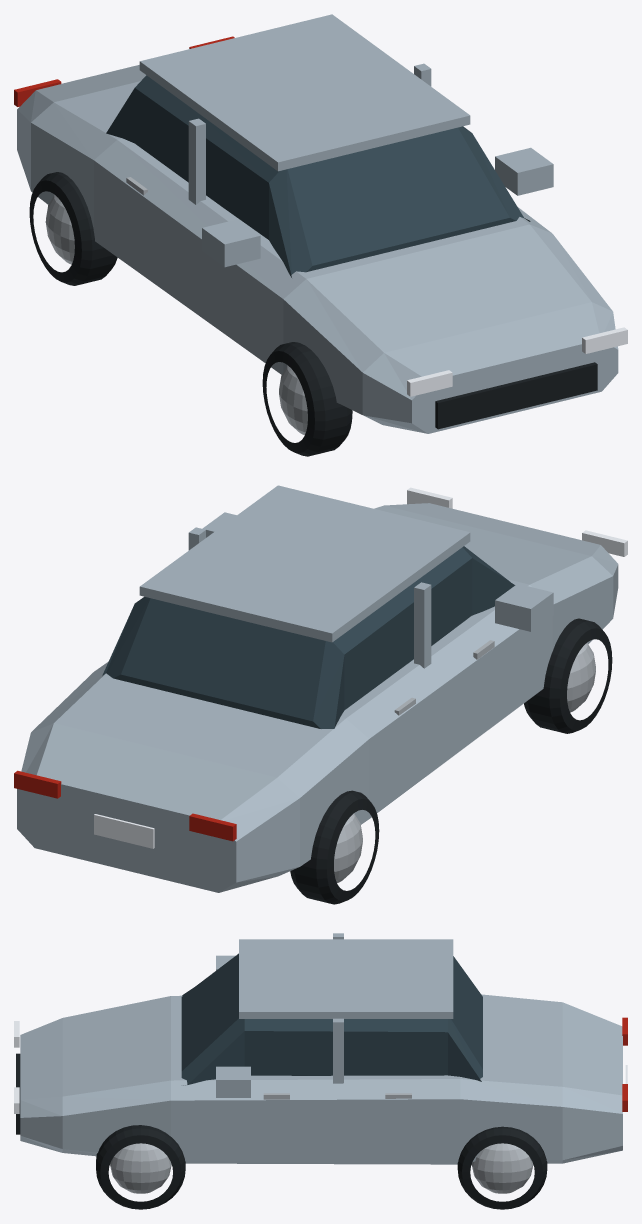
Rendered from campus_sedan.glb.
3 renders of one model, top to bottom at view 1: azimuth 30°, elevation 25°; view 2: azimuth 150°, elevation 25°; view 3: azimuth 270°, elevation 25°, orthographic. The views are drawn at different scales.
Parts seen in each view (by area): view 1: body, glass, roof, wheel-front-right, lower-grille, mirror (×2), wheel-back-right, alloy-hub (×2), front-light (×2), window-pillar; view 2: body, glass, roof, wheel-front-right, wheel-back-right, alloy-hub (×2), mirror, rear-light (×2), window-pillar, number-plate, front-light (×2); view 3: body, glass, roof, alloy-hub (×2), wheel-front-left, wheel-back-left, mirror, window-pillar.
Part boxes in pixels (<box>): body: <box>17,65,618,433</box>; glass: <box>106,75,530,277</box>; roof: <box>139,14,470,171</box>; wheel-front-right: <box>262,342,352,456</box>; lower-grille: <box>435,362,597,429</box>; mirror (×2): <box>202,147,553,267</box>; wheel-back-right: <box>29,172,117,285</box>; alloy-hub (×2): <box>45,195,307,435</box>; front-light (×2): <box>407,327,627,396</box>; window-pillar: <box>188,118,205,204</box>; body: <box>17,503,618,892</box>; glass: <box>102,546,515,728</box>; roof: <box>139,485,470,642</box>; wheel-front-right: <box>524,618,612,733</box>; wheel-back-right: <box>290,790,379,904</box>; alloy-hub (×2): <box>334,643,595,882</box>; mirror: <box>495,584,553,631</box>; rear-light (×2): <box>14,770,236,841</box>; window-pillar: <box>414,582,431,668</box>; number-plate: <box>94,814,154,848</box>; front-light (×2): <box>407,487,627,556</box>; body: <box>20,994,622,1164</box>; glass: <box>181,953,482,1085</box>; roof: <box>239,939,453,1018</box>; alloy-hub (×2): <box>110,1143,533,1193</box>; wheel-front-left: <box>96,1125,185,1209</box>; wheel-back-left: <box>457,1126,547,1209</box>; mirror: <box>216,1066,250,1097</box>; window-pillar: <box>333,1018,343,1083</box>.
Bounding box in the file's own units: 2.1 × 1.42 × 4.38.
